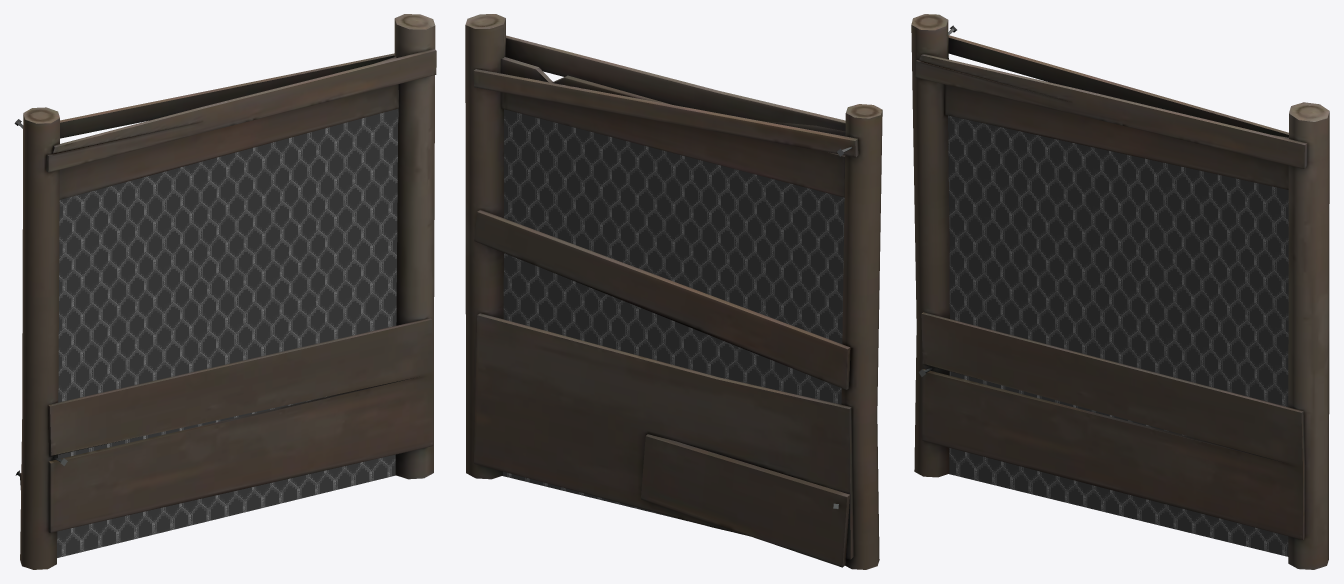
3 renders of one model, left to right at view 1: azimuth 30°, elevation 25°; view 2: azimuth 150°, elevation 25°; view 3: azimuth 330°, elevation 25°, orthographic.
Parts seen in each view (by area): view 1: body0_model0_lod0_mesh1, body0_model0_lod0_mesh0; view 2: body0_model0_lod0_mesh1, body0_model0_lod0_mesh0; view 3: body0_model0_lod0_mesh1, body0_model0_lod0_mesh0.
Part boxes in pixels (<box>): body0_model0_lod0_mesh1: <box>14,14,436,569</box>; body0_model0_lod0_mesh0: <box>57,109,398,557</box>; body0_model0_lod0_mesh1: <box>465,14,882,569</box>; body0_model0_lod0_mesh0: <box>503,109,844,536</box>; body0_model0_lod0_mesh1: <box>911,14,1329,569</box>; body0_model0_lod0_mesh0: <box>948,115,1288,556</box>.
Size of the model in its own units: 128 by 135 by 22.95.
Materials: 2 (2 with a texture image).
